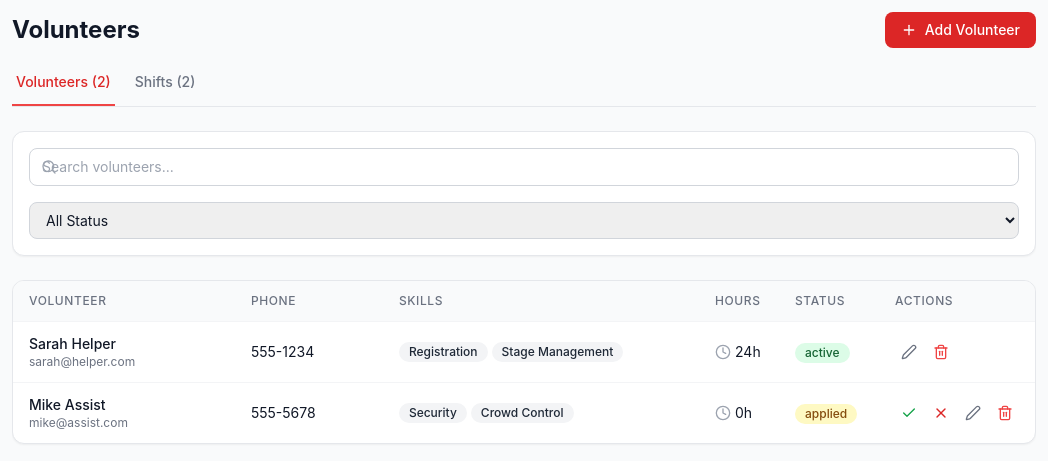
Volunteers › search functionality › filters volunteers by name
The width and height of the screenshot is (1048, 461).
Expected: the text "Sarah Helper" is shown, top-left (29, 335), bottom-right (116, 352)
Type "Sarah" into the field with placeholder "Search volunteers..." at (524, 167), box top-left (29, 148), bottom-right (1019, 186)
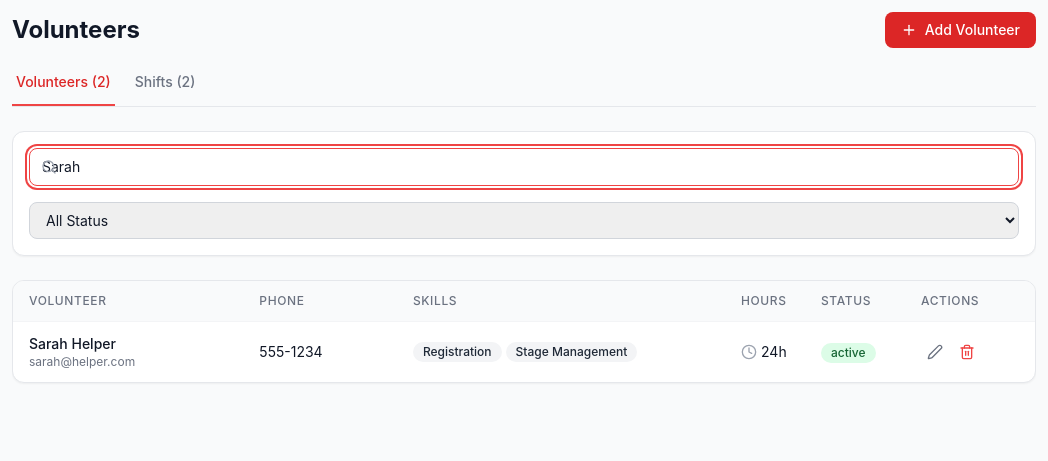
Expected: the text "Sarah Helper" is shown, top-left (29, 335), bottom-right (116, 352)
Now the text "Mike Assist" is gone
